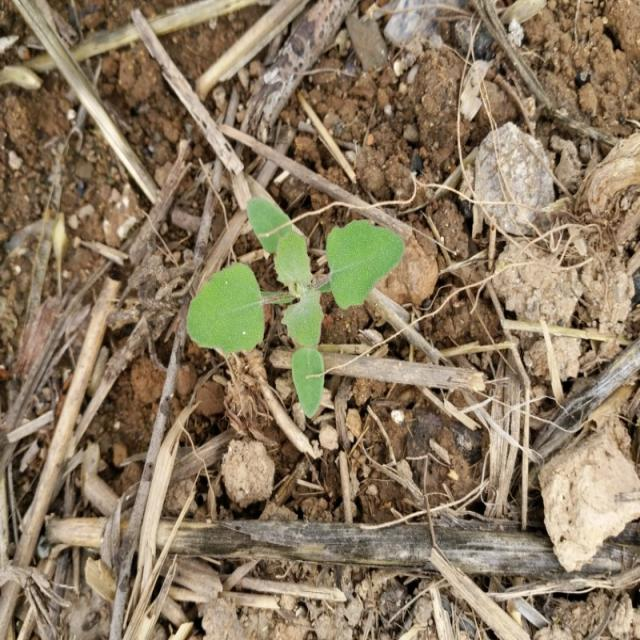ca: (188, 194, 406, 412)
